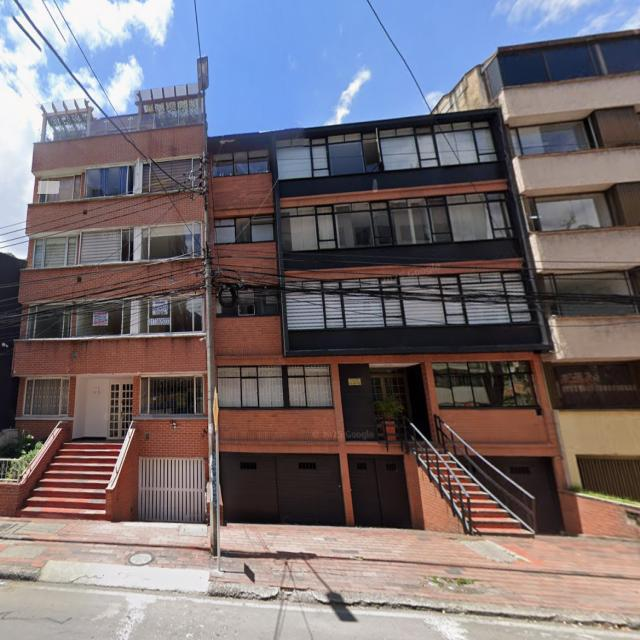fachada: (14, 85, 564, 533), (210, 109, 564, 532), (435, 31, 639, 499), (0, 253, 25, 430)
poste: (203, 90, 220, 571)
